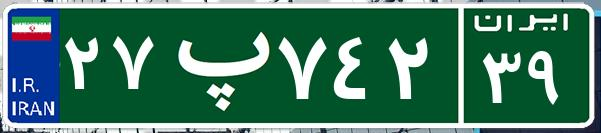2: (385, 28, 445, 110), (57, 26, 110, 107)
3: (475, 38, 525, 113)
4: (330, 28, 385, 110)
7: (273, 28, 330, 110), (110, 28, 158, 105)
9: (525, 38, 570, 115)
پ: (158, 15, 273, 115)
